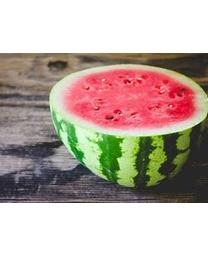watermelon: (45, 66, 207, 187)
